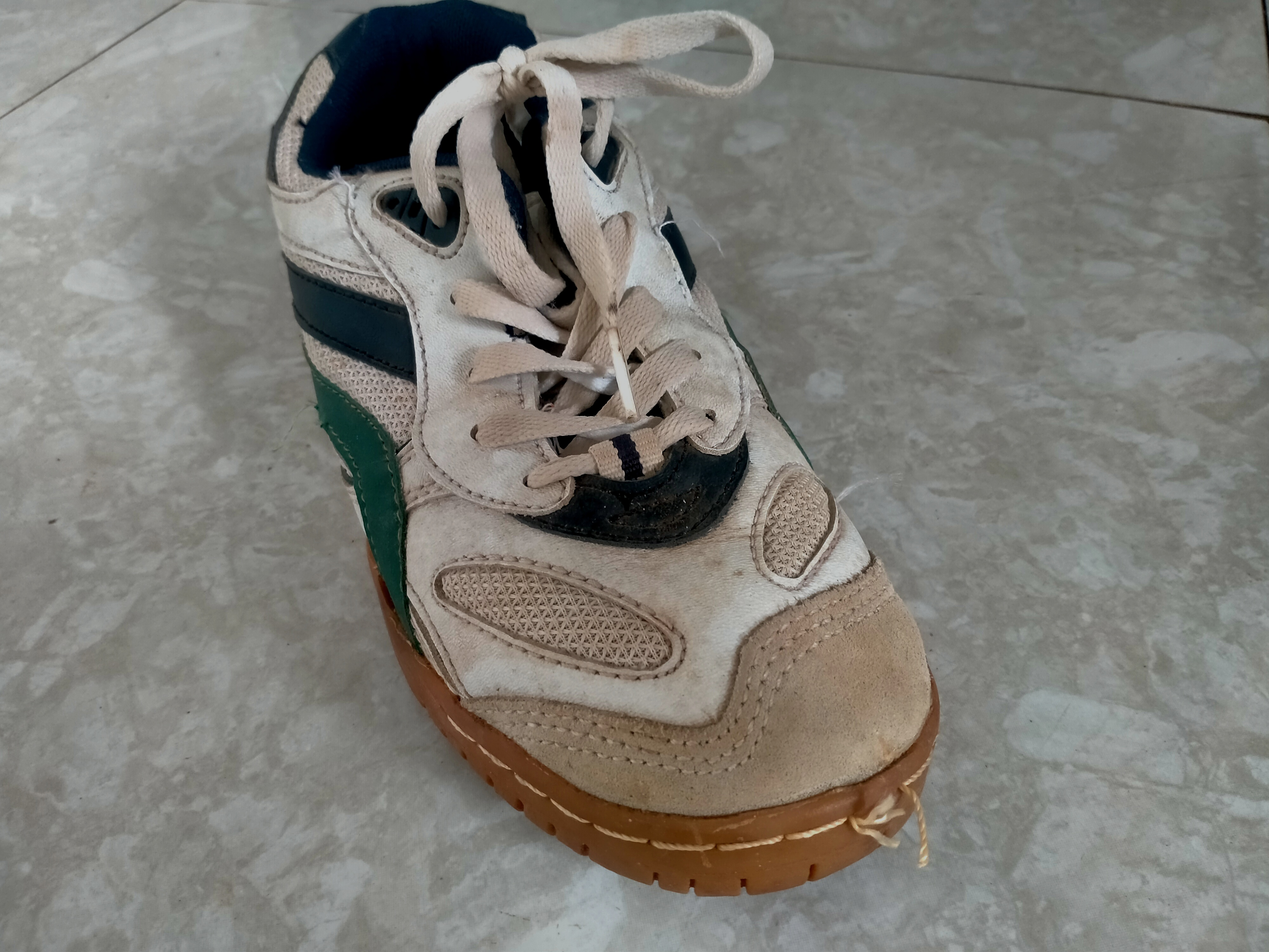broken: (847, 784, 919, 831)
